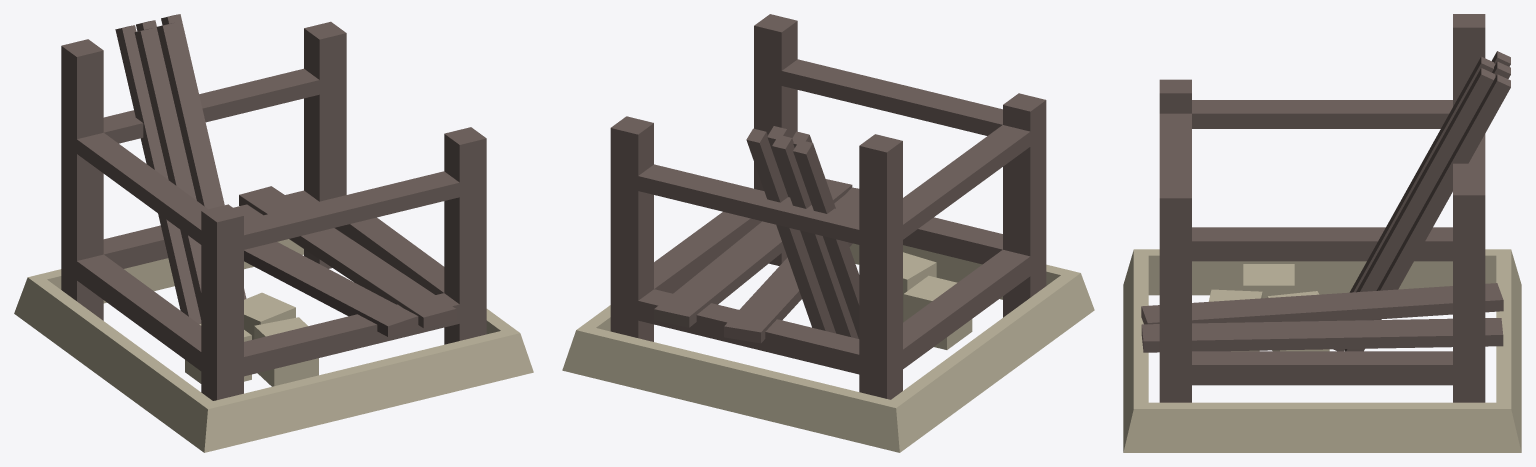
File: Default Scaffold.fbx
3 views of the same model, side by side, from view 1: azimuth 30°, elevation 25°; view 2: azimuth 150°, elevation 25°; view 3: azimuth 270°, elevation 25° (orthographic). The views are drawn at different scales.
Visible parts, largest first — view 1: Cube; view 2: Cube; view 3: Cube.
Boxes of the visible parts, bbox=[...] form: Cube: bbox=[14, 14, 533, 452]; Cube: bbox=[562, 14, 1094, 452]; Cube: bbox=[1123, 14, 1521, 452].
Size of the model in its own units: 1363 by 1080 by 1363.
